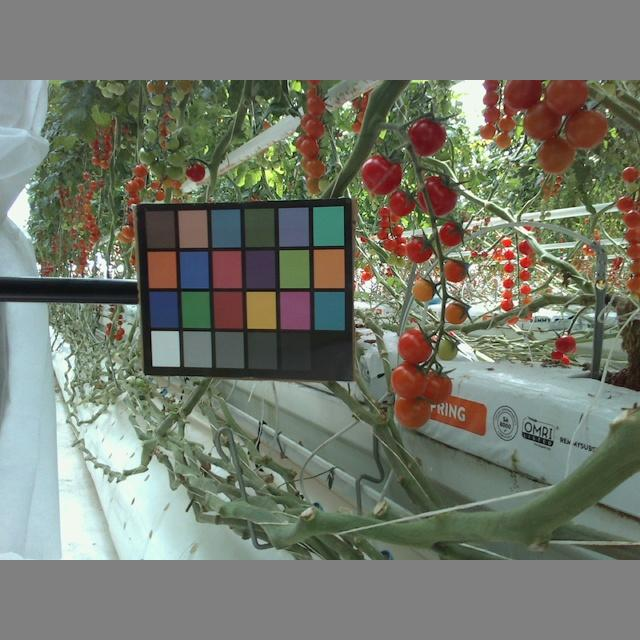green: (435, 336, 457, 360)
pink: (563, 107, 608, 150), (522, 99, 563, 142), (546, 81, 590, 116), (538, 133, 575, 174), (394, 388, 430, 430), (391, 362, 428, 401), (418, 366, 454, 406), (502, 81, 545, 112), (397, 329, 432, 364), (411, 277, 439, 302), (442, 257, 466, 284), (442, 301, 469, 324)
red: (361, 152, 401, 194), (408, 118, 447, 157), (417, 178, 457, 215), (387, 187, 415, 216), (438, 219, 465, 247), (408, 237, 432, 264)
